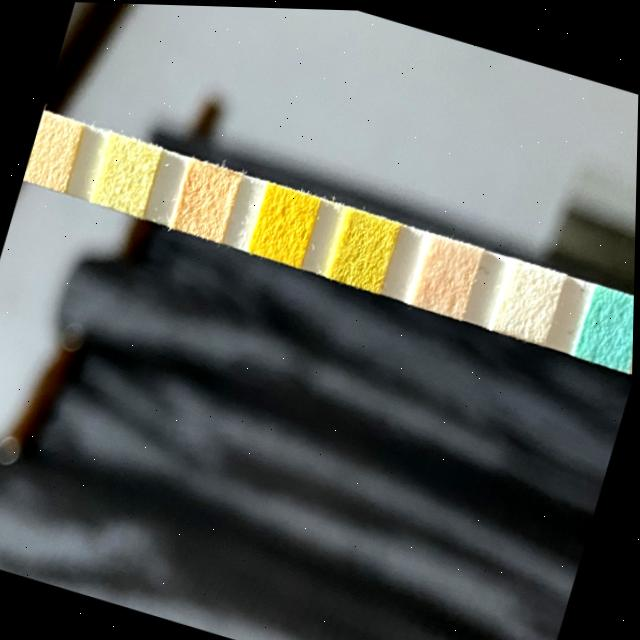Bilirubin: (495, 258, 564, 336)
Blood: (254, 184, 317, 261)
Glucose: (577, 282, 635, 365)
Ketone: (413, 232, 480, 313)
Protein: (93, 132, 161, 212)
SpGravity: (332, 209, 394, 285)
Urobilinogen: (23, 111, 81, 189)
pH: (173, 161, 237, 238)
